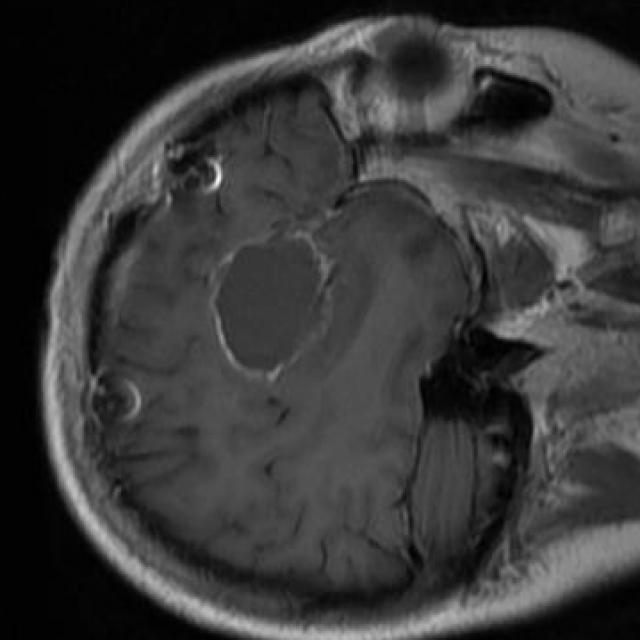glioma: (210, 234, 337, 380)
